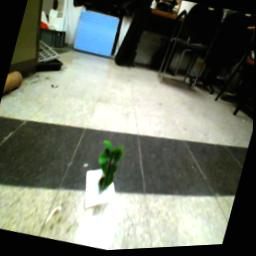herb: (89, 137, 129, 200)
